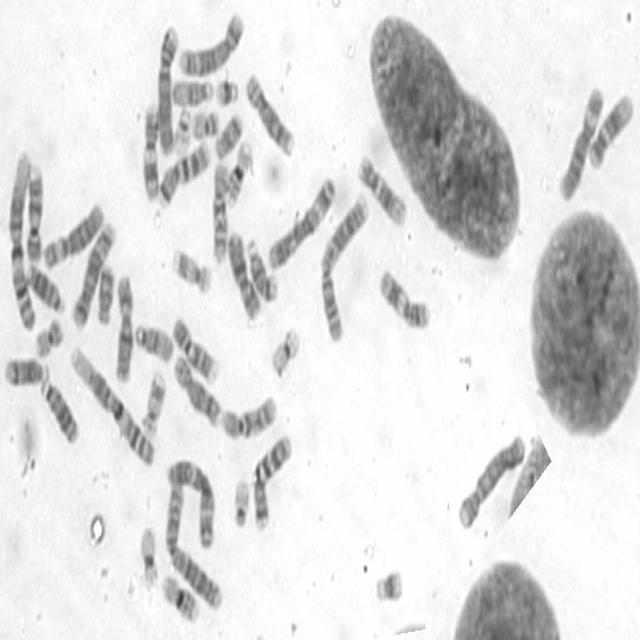A1: (66, 340, 158, 469), (5, 143, 37, 332)
A2: (162, 473, 224, 613), (316, 188, 371, 344)
A3: (265, 172, 336, 272), (163, 454, 216, 550)
B4: (456, 428, 527, 531), (154, 17, 180, 156)
B5: (68, 214, 116, 330), (176, 9, 246, 77)
C10: (221, 390, 278, 442), (208, 153, 231, 266)
C11: (377, 264, 431, 330), (139, 100, 160, 202)
C12: (356, 150, 410, 228), (588, 87, 634, 170)
C6: (555, 80, 605, 204), (40, 196, 105, 270)
C7: (250, 429, 293, 532), (156, 137, 212, 210)
C8: (243, 69, 296, 159), (170, 348, 223, 431)
C9: (170, 311, 219, 386), (24, 161, 45, 263)
D13: (38, 372, 80, 446), (24, 258, 66, 316)
D14: (244, 234, 279, 302), (1, 351, 51, 388)
D15: (133, 319, 175, 363), (169, 73, 215, 108)
E16: (158, 567, 200, 625), (224, 135, 252, 211)
E17: (168, 243, 212, 296), (139, 364, 166, 442)
E18: (212, 108, 244, 161), (94, 260, 116, 326)
F19: (268, 323, 301, 379), (138, 522, 159, 592)
F20: (32, 313, 64, 359), (190, 106, 219, 140)
G21: (372, 559, 405, 605), (213, 74, 239, 108)
G22: (230, 472, 251, 530), (172, 104, 192, 159)
X: (224, 226, 262, 322), (112, 268, 134, 384)
